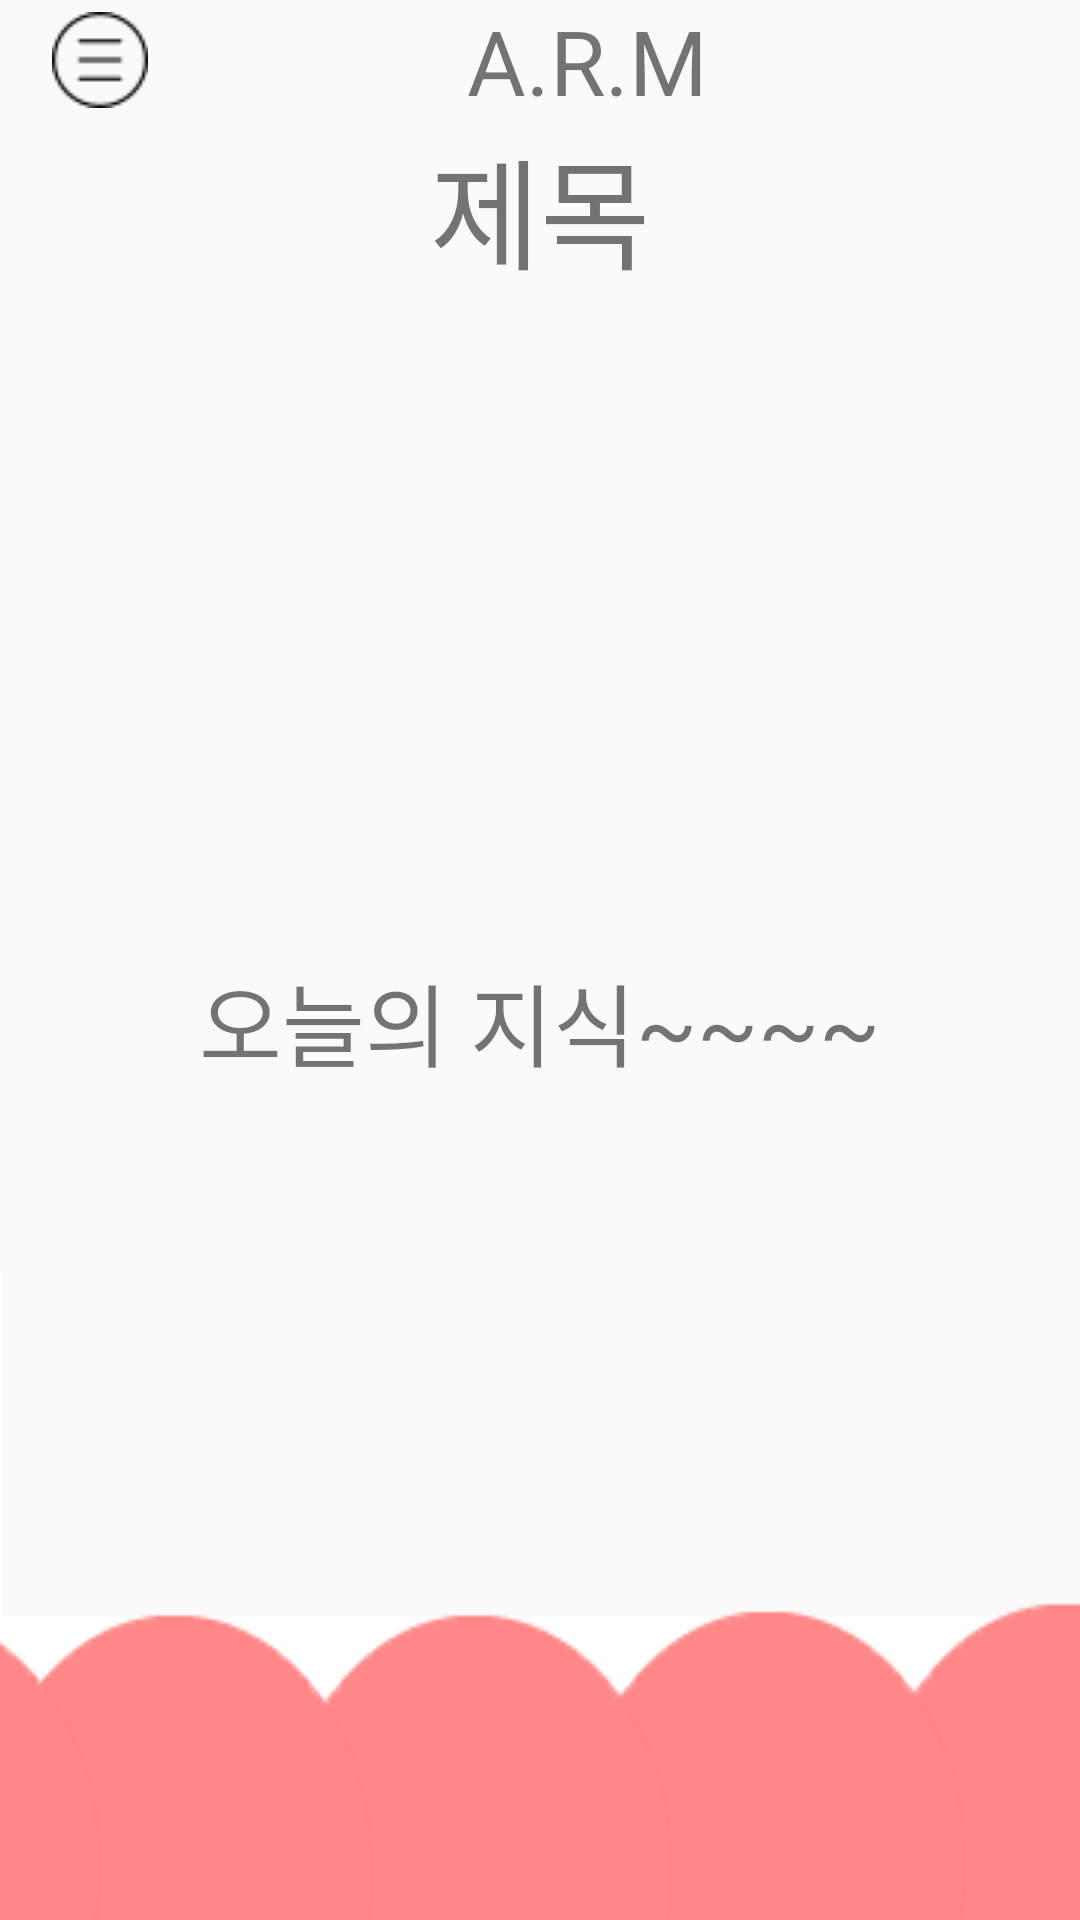

Named icons in this screenshot (1080 x 1920) and their bounding boxes, (x1, y1, x2, y2):
menu: (52, 12, 148, 108)
